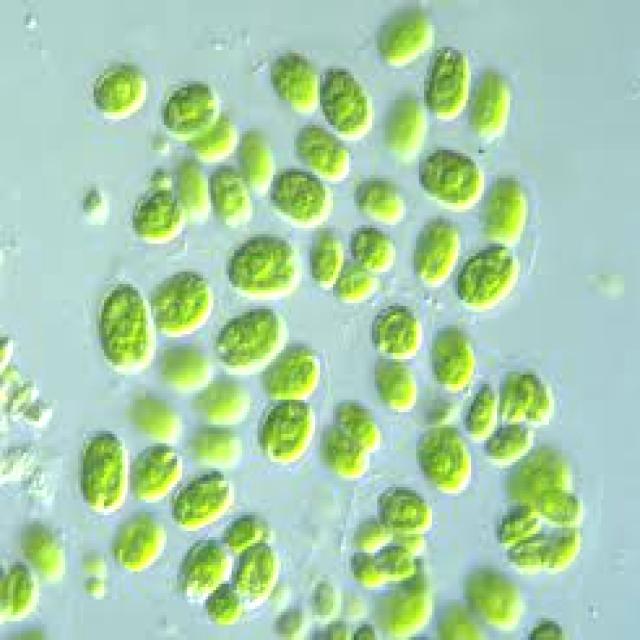Green Algae: (227, 228, 300, 303), (210, 299, 284, 372), (94, 275, 151, 365), (416, 144, 486, 206), (148, 269, 211, 337), (455, 244, 518, 309), (317, 66, 372, 138), (80, 431, 128, 512), (424, 322, 479, 390), (109, 512, 169, 574), (419, 425, 473, 493), (258, 397, 314, 462), (174, 468, 229, 534), (377, 6, 437, 66), (263, 343, 320, 403), (414, 212, 461, 284), (273, 166, 336, 218), (130, 440, 182, 503), (177, 540, 229, 603), (323, 418, 372, 484), (162, 81, 218, 138), (367, 300, 424, 356), (271, 47, 320, 112), (427, 41, 468, 118), (471, 568, 520, 631), (487, 172, 528, 246), (294, 122, 351, 175), (133, 184, 182, 244), (471, 66, 510, 140), (378, 484, 434, 534), (94, 60, 143, 116), (237, 543, 278, 609), (132, 390, 184, 440), (338, 396, 385, 449), (382, 94, 419, 159), (214, 162, 252, 225), (362, 178, 406, 228), (538, 484, 586, 528), (195, 384, 252, 421), (310, 225, 344, 287), (242, 128, 273, 194), (164, 344, 211, 387), (486, 422, 536, 462), (192, 428, 242, 468), (377, 359, 416, 409), (523, 365, 554, 425), (352, 222, 396, 262), (2, 565, 34, 618), (336, 265, 380, 303), (468, 384, 497, 440), (544, 528, 580, 571), (507, 534, 544, 574), (377, 543, 419, 578), (227, 512, 266, 549), (497, 506, 541, 537), (351, 550, 385, 590), (312, 584, 341, 621)
